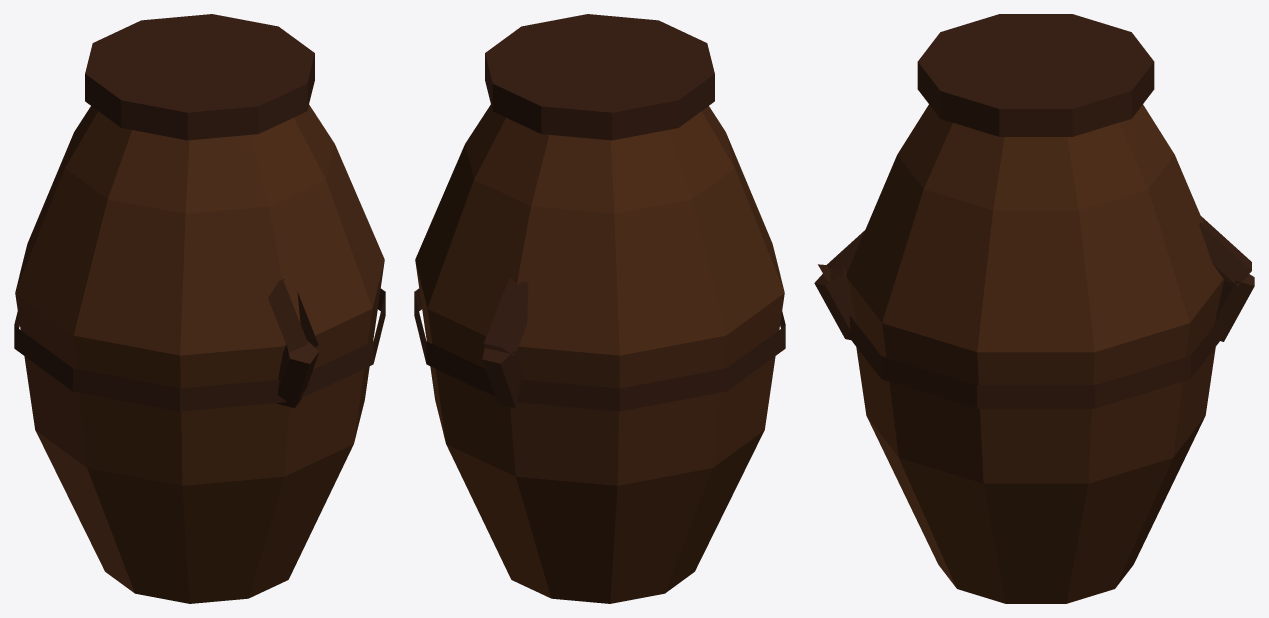
File: jar_01.glb
3 views of the same model, side by side, from view 1: azimuth 30°, elevation 25°; view 2: azimuth 150°, elevation 25°; view 3: azimuth 270°, elevation 25° (orthographic).
Visible parts, largest first — view 1: jar_01; view 2: jar_01; view 3: jar_01.
Part boxes in pixels (x1,y1,x2,y2): jar_01: (14,14,385,603); jar_01: (414,14,785,603); jar_01: (814,14,1254,603).
Size of the model in its own units: 0.7076 by 1.08 by 0.8566.
Materials: 2 (2 with a texture image).
